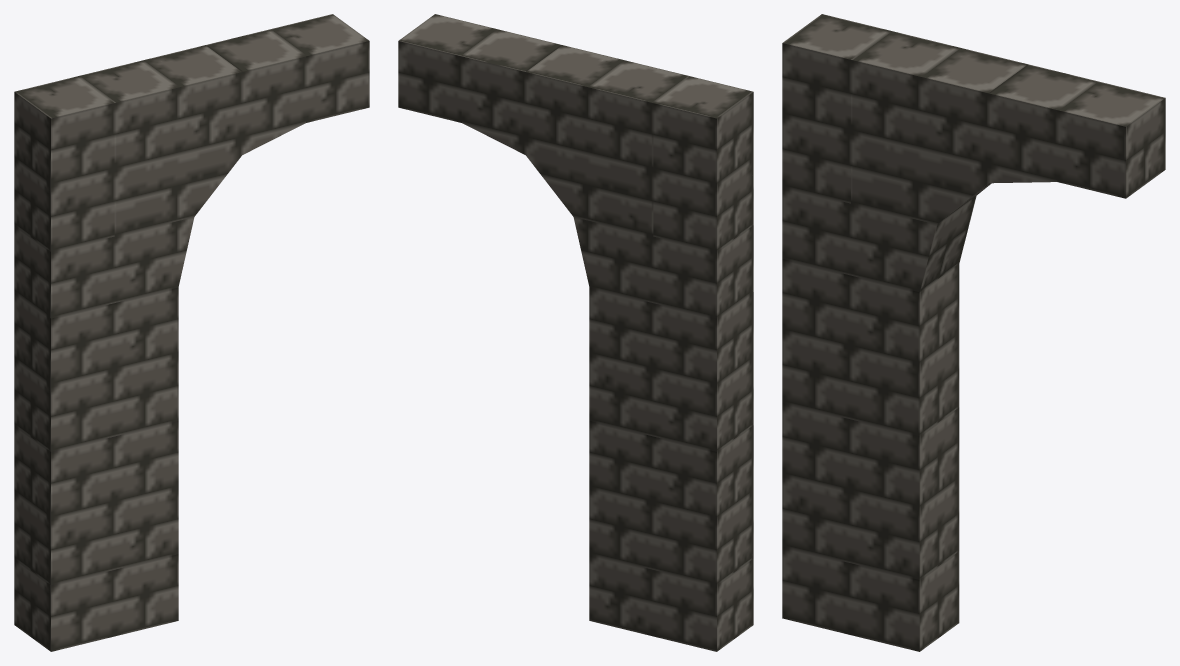
The model's file is Arch_Decor_Half.fbx.
3 views of the same model, side by side, from view 1: azimuth 30°, elevation 25°; view 2: azimuth 150°, elevation 25°; view 3: azimuth 330°, elevation 25° (orthographic). The views are drawn at different scales.
Visible parts, largest first — view 1: Arch_Decor_Half; view 2: Arch_Decor_Half; view 3: Arch_Decor_Half.
Part boxes in pixels (box(x1,y1,x2,y2)): Arch_Decor_Half: box(14, 14, 369, 651); Arch_Decor_Half: box(398, 14, 753, 651); Arch_Decor_Half: box(782, 14, 1165, 651).
Bounding box in the file's own units: 500 × 800 × 100.
1 material, 1 textured.
